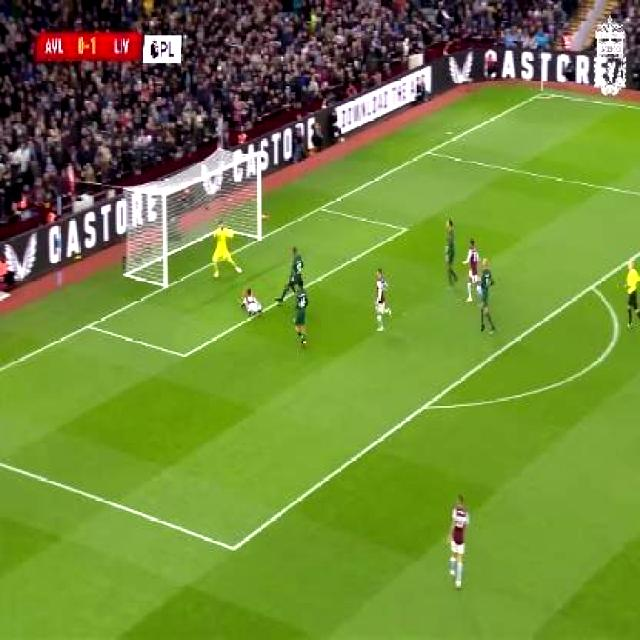bigarea_bottom_inner: (220, 532, 246, 566)
bigarea_top_outter: (421, 143, 434, 159)
bottom_arc_area_intersection: (417, 392, 434, 418)
corner: (537, 88, 552, 99)
smallarea_bottom_inner: (175, 340, 194, 369)
smallarea_bottom_outter: (80, 314, 97, 337)
smallarea_top_inner: (397, 220, 412, 237)
smallarea_top_outter: (312, 200, 326, 218)
top_arc_area_intersection: (584, 276, 598, 296)
